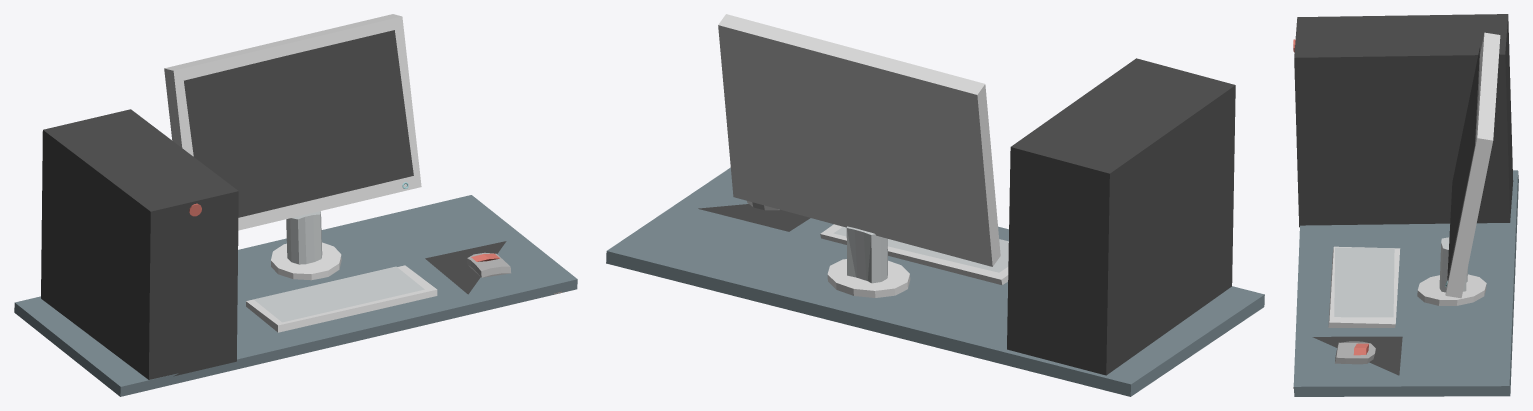
The model's file is computer.gltf.
3 renders of one model, left to right at view 1: azimuth 30°, elevation 25°; view 2: azimuth 150°, elevation 25°; view 3: azimuth 270°, elevation 25°, orthographic. The views are drawn at different scales.
Visible parts, largest first — view 1: model; view 2: model; view 3: model.
Boxes of the visible parts, x1,y1,x2,y2 form: model: (14,14,577,396); model: (606,14,1264,396); model: (1293,14,1518,396).
Size of the model in its own units: 1.19 by 0.5606 by 0.5208.
